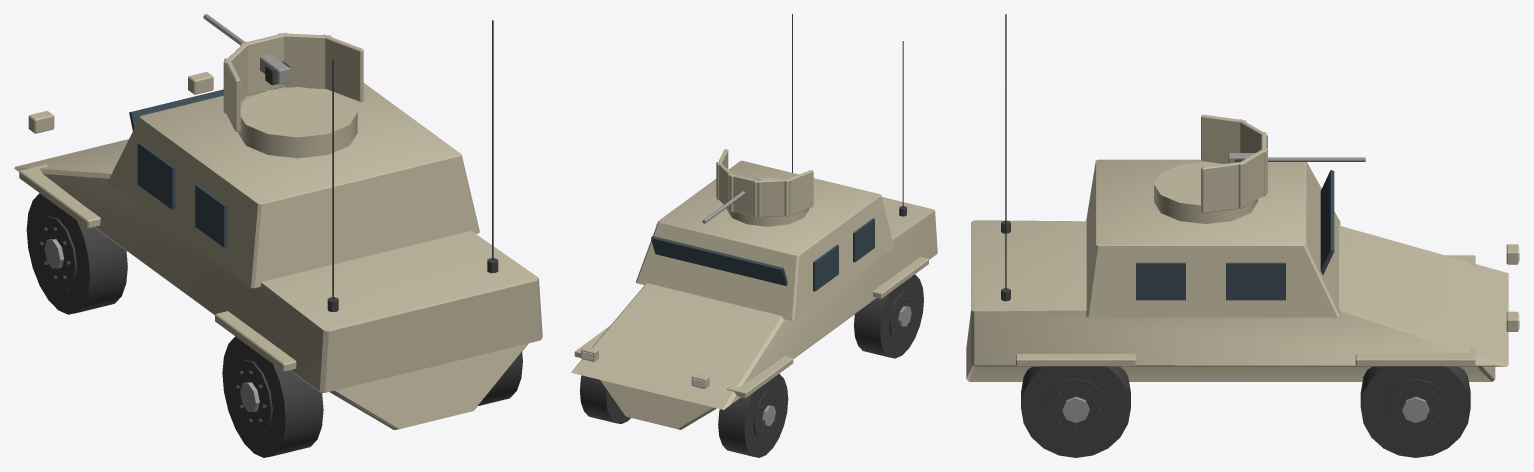
Rendered from rus_lv_strela.glb.
3 views of the same model, side by side, from view 1: azimuth 30°, elevation 25°; view 2: azimuth 150°, elevation 25°; view 3: azimuth 270°, elevation 25° (orthographic). The views are drawn at different scales.
Visible parts, largest first — view 1: body, turret, wheel_0, wheel_2, barrel, wheel_3; view 2: body, turret, wheel_0, wheel_2, wheel_1; view 3: body, wheel_1, wheel_3, turret, barrel.
Boxes of the visible parts, <box> form: body: <box>14,20,542,429</box>; turret: <box>223,32,363,158</box>; wheel_0: <box>26,193,127,314</box>; wheel_2: <box>222,336,323,457</box>; barrel: <box>203,14,290,85</box>; wheel_3: <box>478,352,522,405</box>; body: <box>571,14,937,429</box>; turret: <box>716,149,813,226</box>; wheel_0: <box>718,373,788,457</box>; wheel_2: <box>854,274,923,358</box>; wheel_1: <box>580,375,630,423</box>; body: <box>966,14,1519,381</box>; wheel_1: <box>1360,366,1470,457</box>; wheel_3: <box>1021,366,1130,457</box>; turret: <box>1154,114,1267,223</box>; barrel: <box>1228,153,1365,163</box>.
Size of the model in its own units: 2.5 by 3.97 by 5.54.
